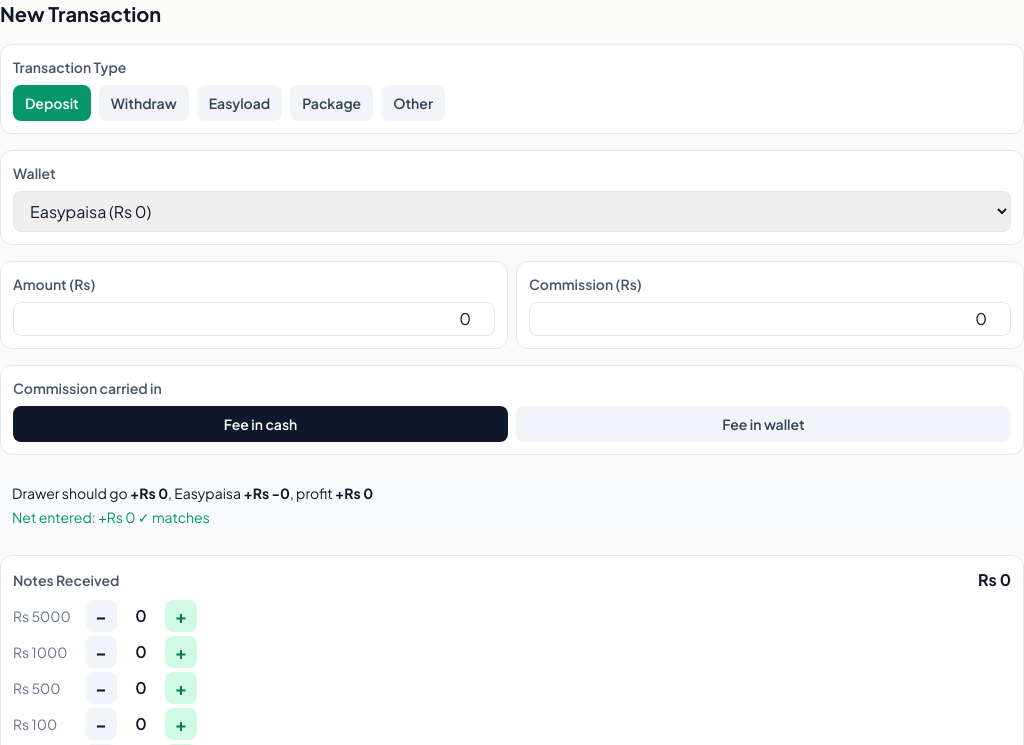
NewTransaction — guided form › Easyload hides the commission controls
Step 1. Click the button "Easyload" → (239, 103), box [197,85,282,121]
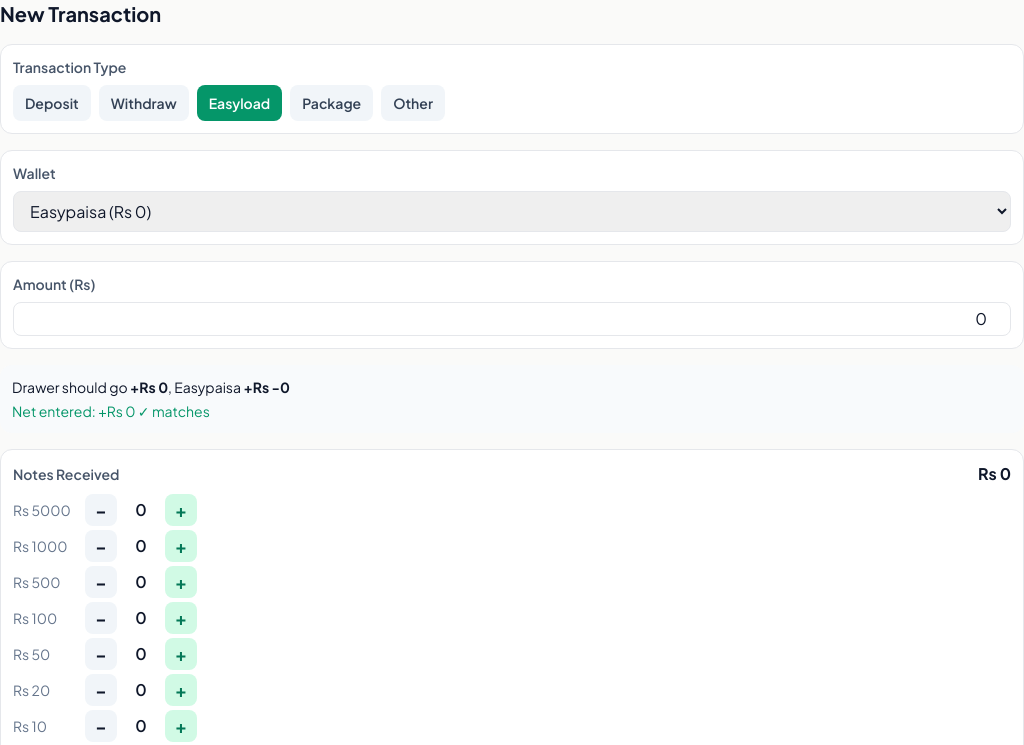
Result: the button "Fee in cash" is gone
